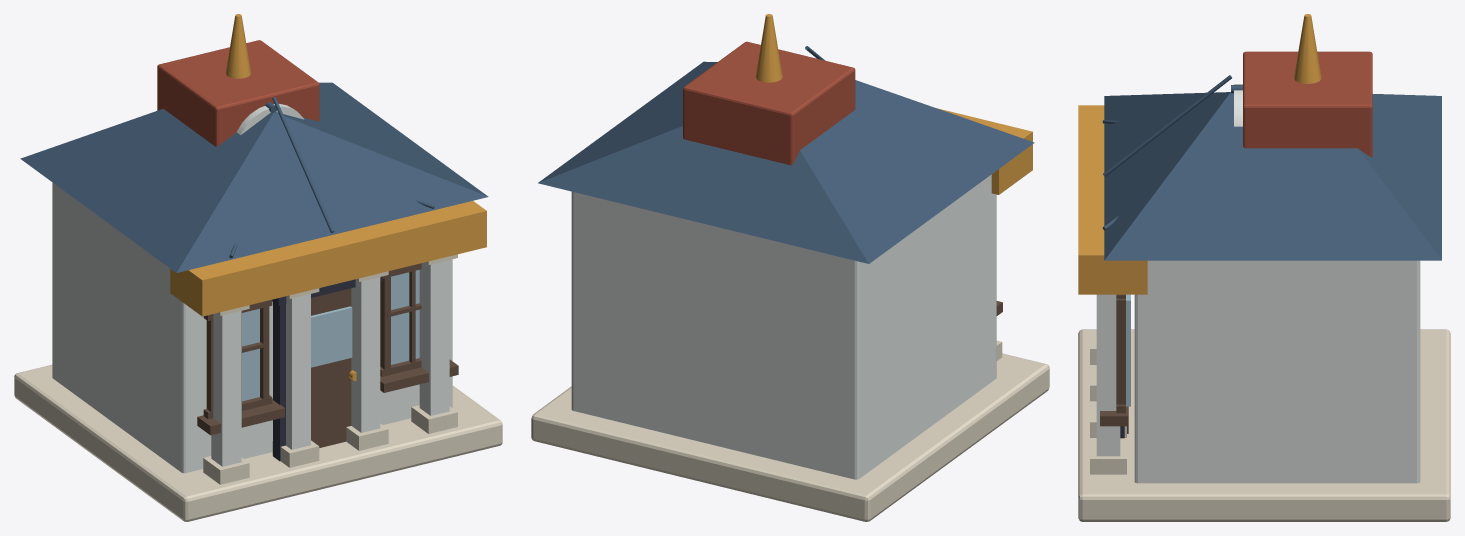
Rendered from base_civic.glb.
3 views of the same model, side by side, from view 1: azimuth 30°, elevation 25°; view 2: azimuth 150°, elevation 25°; view 3: azimuth 270°, elevation 25° (orthographic). The views are drawn at different scales.
Visible parts, largest first — view 1: base_civic plaster, base_civic slate, base_civic mist, base_civic ochre, base_civic wood, base_civic clay, base_civic glass, base_civic ink; view 2: base_civic plaster, base_civic slate, base_civic mist, base_civic clay, base_civic ochre; view 3: base_civic plaster, base_civic slate, base_civic mist, base_civic clay, base_civic ochre, base_civic wood, base_civic glass.
Part boxes in pixels (<box>): base_civic plaster: <box>52,104,452,473</box>; base_civic slate: <box>20,82,488,272</box>; base_civic mist: <box>14,254,502,521</box>; base_civic ochre: <box>170,14,486,381</box>; base_civic wood: <box>197,263,458,447</box>; base_civic clay: <box>157,40,319,146</box>; base_civic glass: <box>242,269,419,401</box>; base_civic ink: <box>272,276,382,461</box>; base_civic plaster: <box>571,174,996,479</box>; base_civic slate: <box>538,46,1034,263</box>; base_civic mist: <box>531,340,1049,521</box>; base_civic clay: <box>683,41,855,165</box>; base_civic ochre: <box>755,14,1032,194</box>; base_civic plaster: <box>1096,84,1420,483</box>; base_civic slate: <box>1102,75,1441,260</box>; base_civic mist: <box>1078,329,1450,521</box>; base_civic clay: <box>1243,51,1372,157</box>; base_civic ochre: <box>1078,14,1321,294</box>; base_civic wood: <box>1100,294,1128,433</box>; base_civic glass: <box>1126,294,1130,406</box>.
Bounding box in the file's own units: 0.92 × 1.08 × 0.86.
